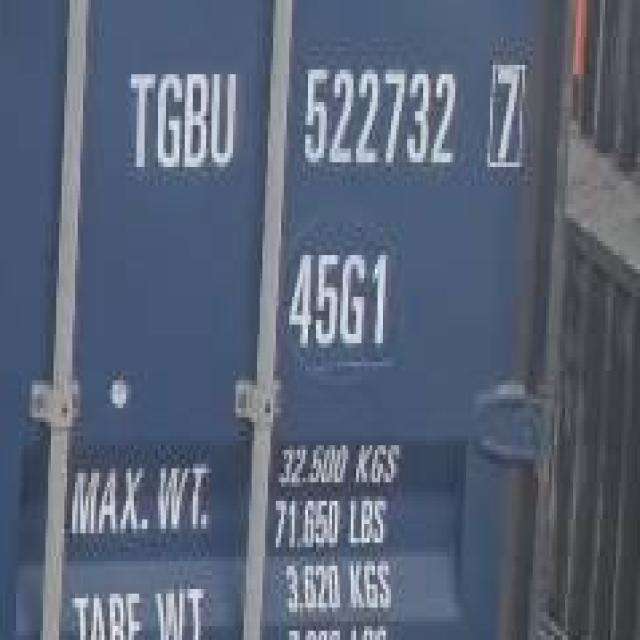dv: (483, 47, 530, 180)
owner: (122, 51, 244, 184)
serial: (298, 52, 464, 185)
size: (282, 242, 401, 357)
